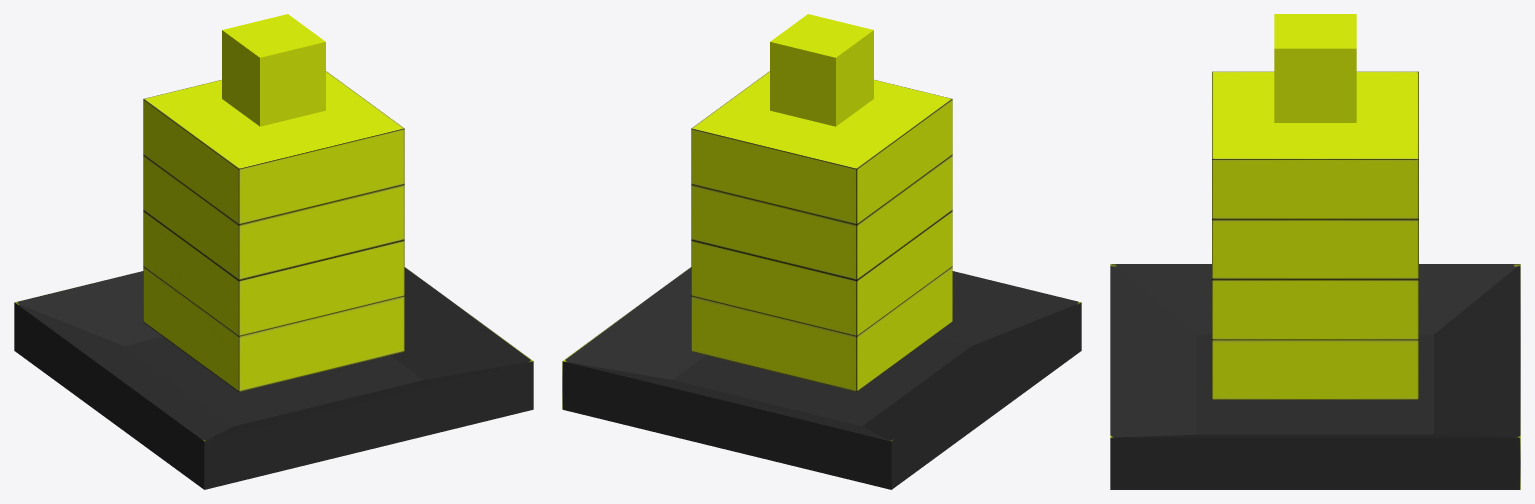
The model's file is energy.obj.
3 renders of one model, left to right at view 1: azimuth 30°, elevation 25°; view 2: azimuth 150°, elevation 25°; view 3: azimuth 270°, elevation 25°, orthographic. The views are drawn at different scales.
Parts seen in each view (by area): view 1: 立方体; view 2: 立方体; view 3: 立方体.
Part boxes in pixels (bbox=[...]): 立方体: bbox=[14, 14, 533, 489]; 立方体: bbox=[562, 14, 1081, 489]; 立方体: bbox=[1110, 14, 1520, 489].
Size of the model in its own units: 2 by 2 by 2.
Materials: 1 (1 with a texture image).
